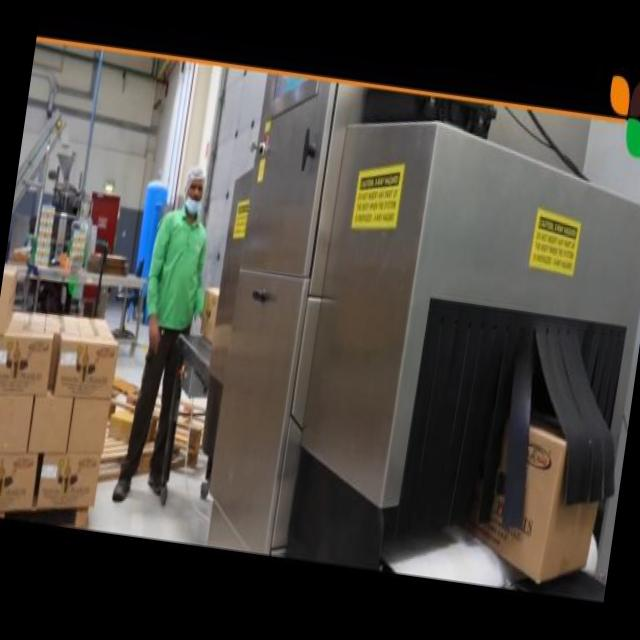hairnet: (183, 166, 208, 193)
